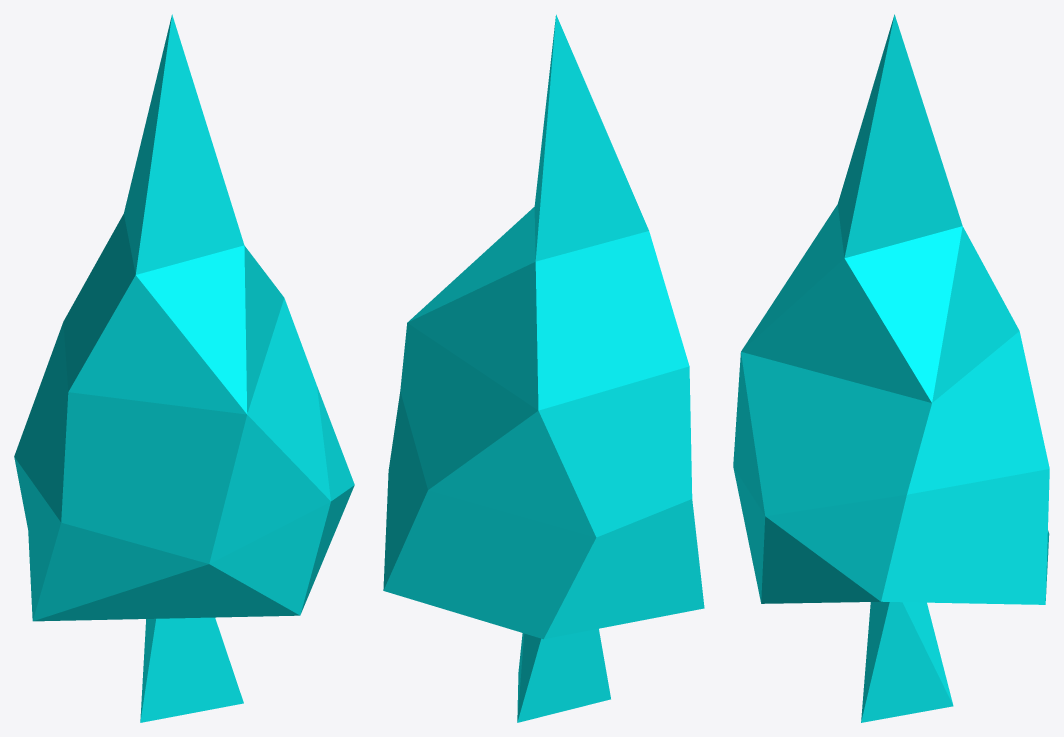
File: forestpack_tree_stump_1_meshCollider.FBX
3 renders of one model, left to right at view 1: azimuth 30°, elevation 25°; view 2: azimuth 150°, elevation 25°; view 3: azimuth 270°, elevation 25°, orthographic.
Parts seen in each view (by area): view 1: forestpack_tree_fir_tall_meshCollider; view 2: forestpack_tree_fir_tall_meshCollider; view 3: forestpack_tree_fir_tall_meshCollider.
Boxes of the visible parts, bbox=[...] form: forestpack_tree_fir_tall_meshCollider: bbox=[14, 14, 354, 722]; forestpack_tree_fir_tall_meshCollider: bbox=[383, 14, 704, 722]; forestpack_tree_fir_tall_meshCollider: bbox=[733, 14, 1049, 722].
Bounding box in the file's own units: 169 × 351 × 146.
